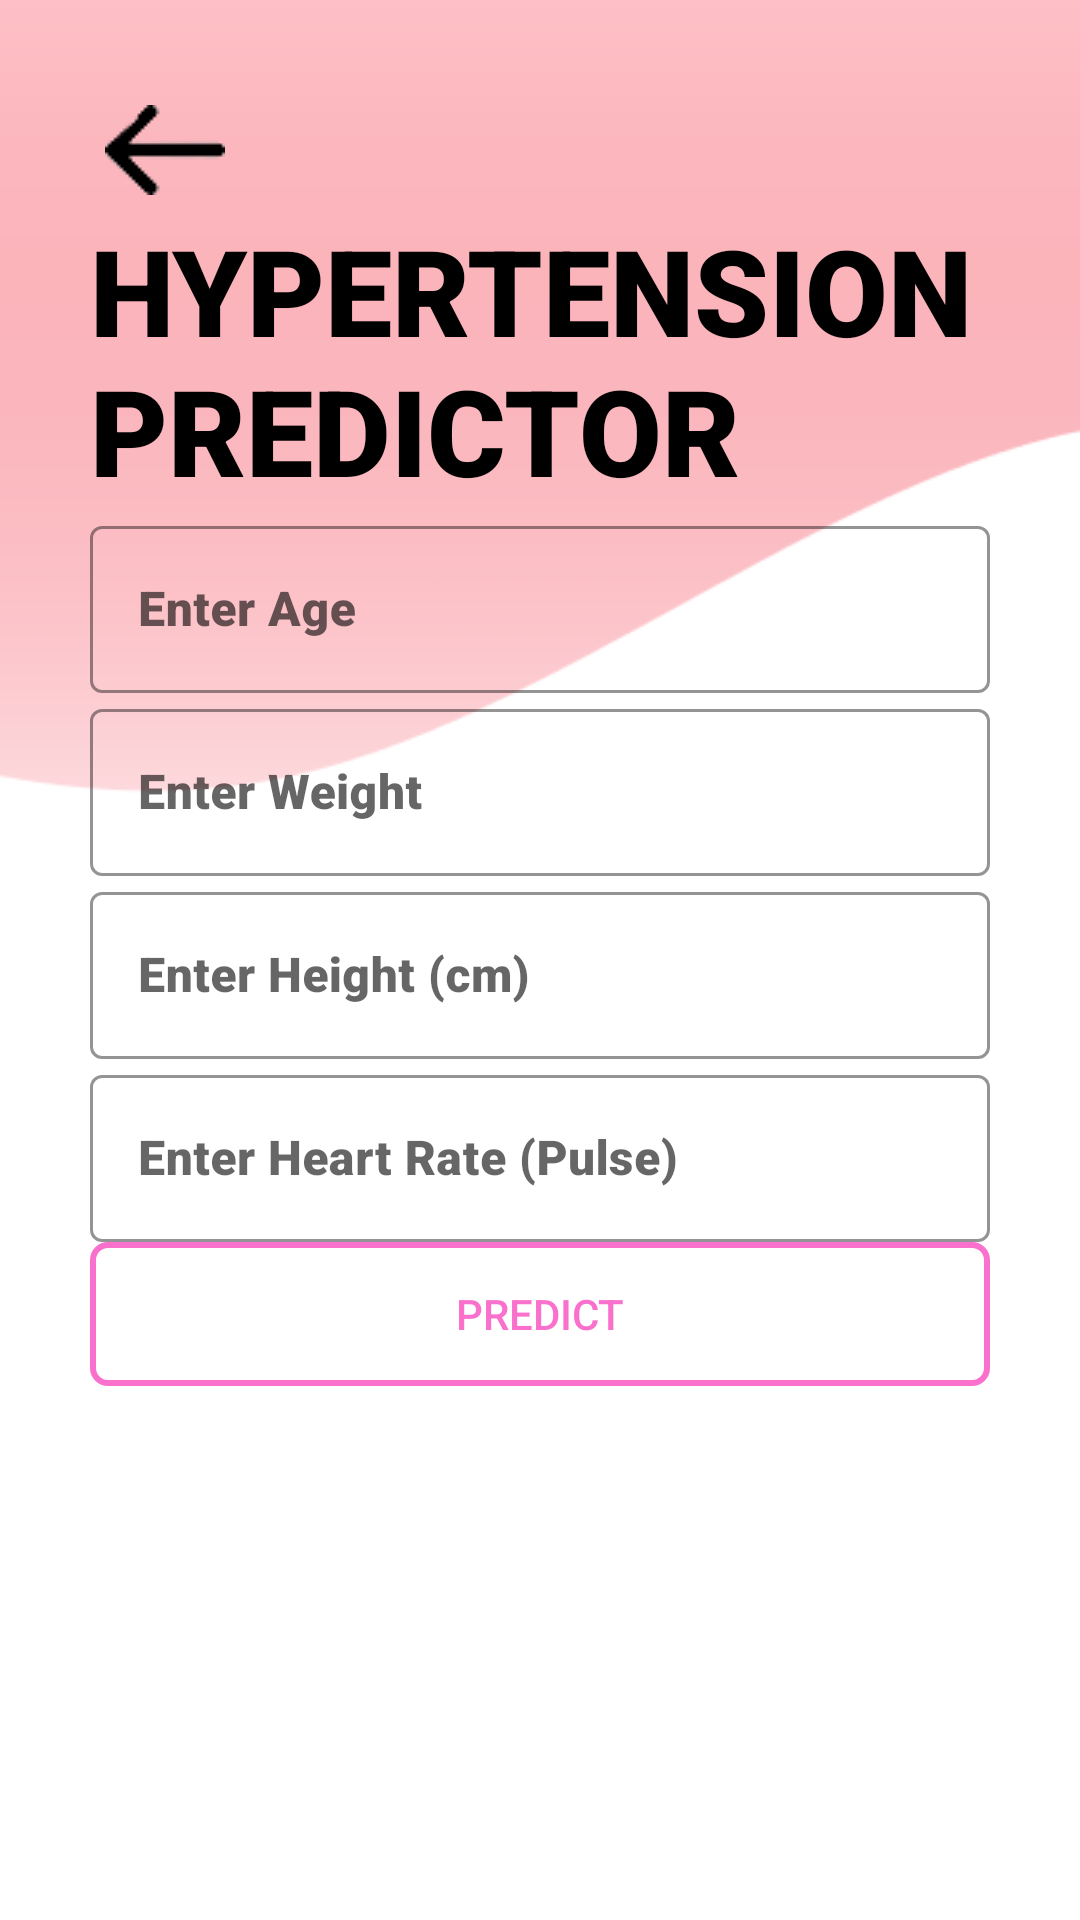

Named icons in this screenshot (1080px x 1920px) and their bounding boxes, (x1, y1, x2, y2):
back: (105, 105, 225, 195)
